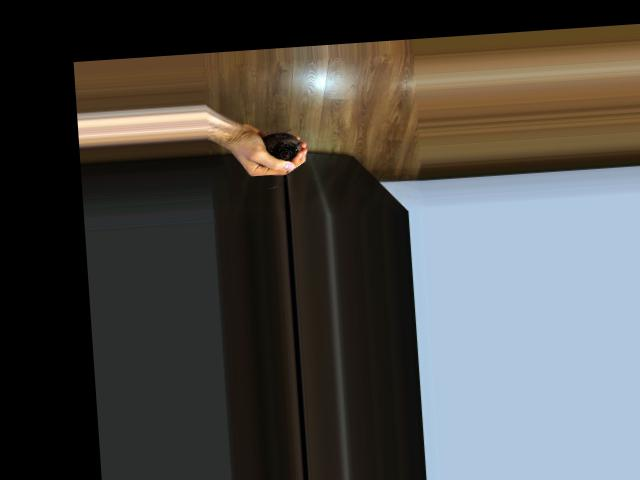beet: (262, 131, 305, 189)
